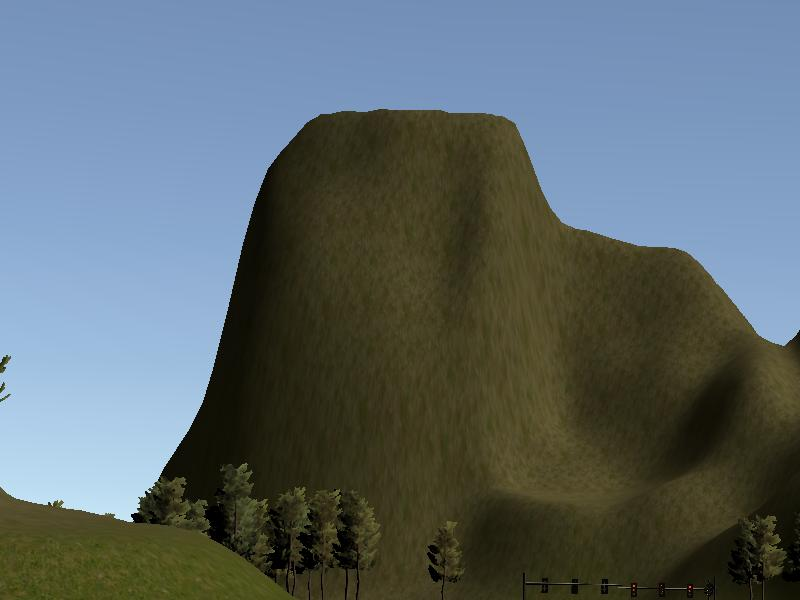background: (1, 1, 800, 599)
